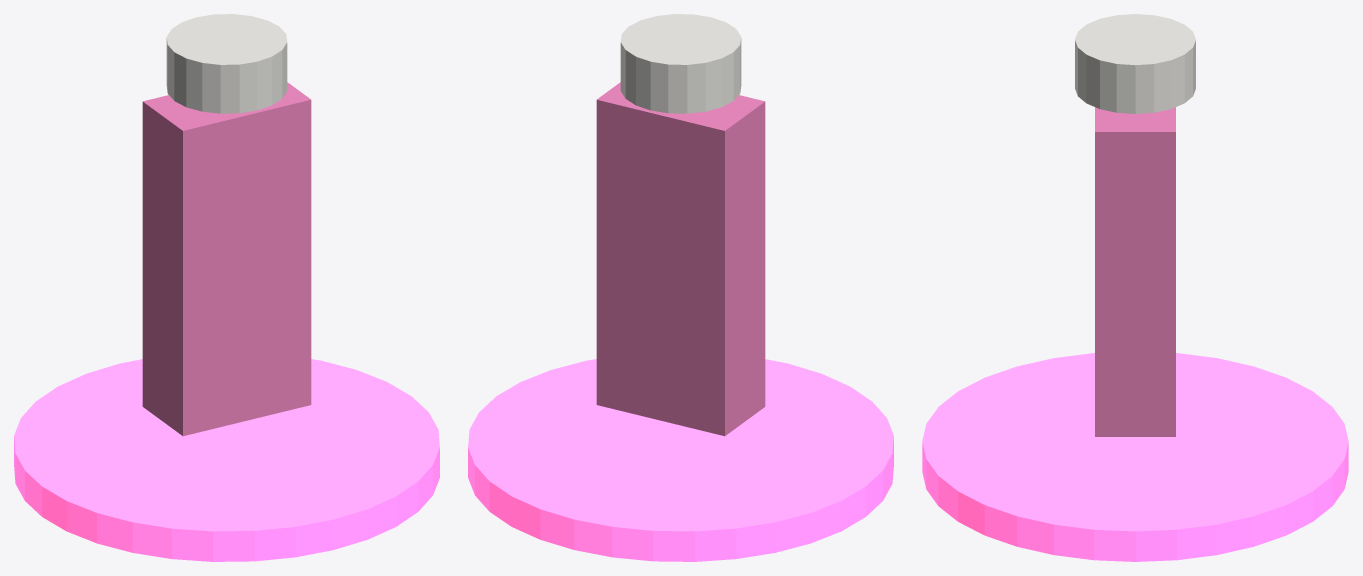
Rendered from beauty_beauty_tube.glb.
3 renders of one model, left to right at view 1: azimuth 30°, elevation 25°; view 2: azimuth 150°, elevation 25°; view 3: azimuth 270°, elevation 25°, orthographic.
Visible parts, largest first — view 1: 03_10_Popular_Beauty_Beauty_Tube_ROOT_base, 03_10_Popular_Beauty_Beauty_Tube_part_01, 03_10_Popular_Beauty_Beauty_Tube_part_02; view 2: 03_10_Popular_Beauty_Beauty_Tube_ROOT_base, 03_10_Popular_Beauty_Beauty_Tube_part_01, 03_10_Popular_Beauty_Beauty_Tube_part_02; view 3: 03_10_Popular_Beauty_Beauty_Tube_ROOT_base, 03_10_Popular_Beauty_Beauty_Tube_part_01, 03_10_Popular_Beauty_Beauty_Tube_part_02.
Boxes of the visible parts, x1=… form: 03_10_Popular_Beauty_Beauty_Tube_ROOT_base: x1=14, y1=359, x2=439, y2=561; 03_10_Popular_Beauty_Beauty_Tube_part_01: x1=142, y1=82, x2=311, y2=436; 03_10_Popular_Beauty_Beauty_Tube_part_02: x1=166, y1=14, x2=287, y2=113; 03_10_Popular_Beauty_Beauty_Tube_ROOT_base: x1=468, y1=359, x2=893, y2=561; 03_10_Popular_Beauty_Beauty_Tube_part_01: x1=596, y1=82, x2=765, y2=436; 03_10_Popular_Beauty_Beauty_Tube_part_02: x1=620, y1=14, x2=741, y2=113; 03_10_Popular_Beauty_Beauty_Tube_ROOT_base: x1=922, y1=353, x2=1348, y2=561; 03_10_Popular_Beauty_Beauty_Tube_part_01: x1=1095, y1=107, x2=1175, y2=436; 03_10_Popular_Beauty_Beauty_Tube_part_02: x1=1075, y1=14, x2=1195, y2=113.
Bounding box in the file's own units: 0.76 × 0.85 × 0.76.
